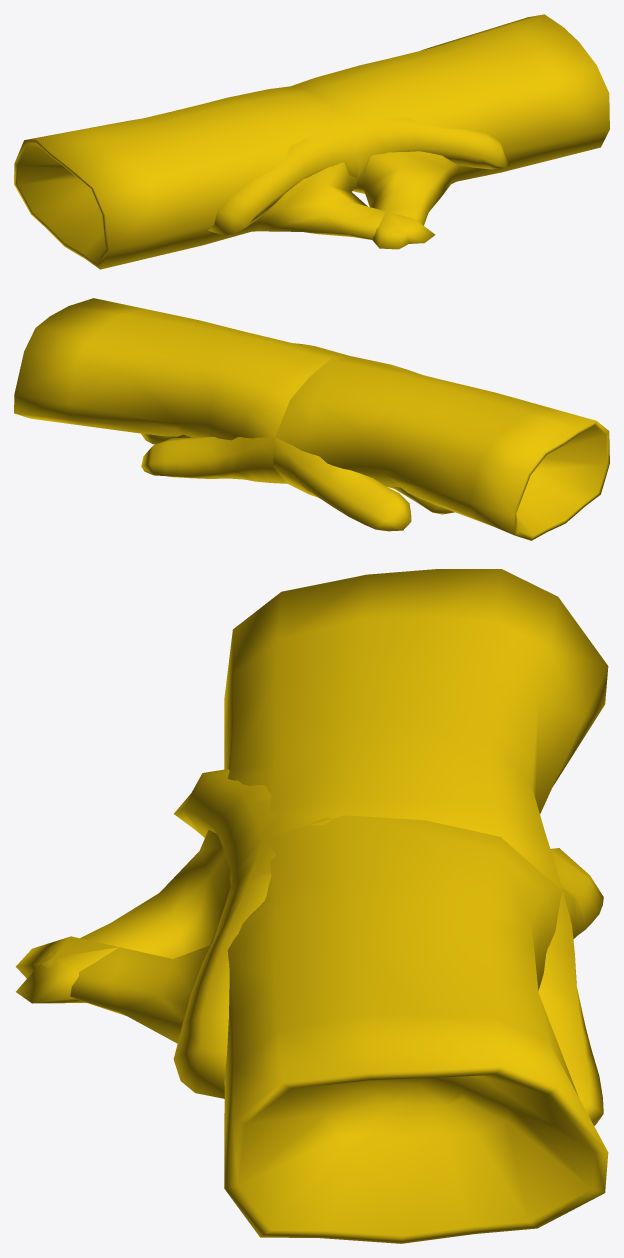
Rendered from Gloves_Metal.fbx.
The picture shows the model from 3 angles, top to bottom: view 1: azimuth 30°, elevation 25°; view 2: azimuth 150°, elevation 25°; view 3: azimuth 270°, elevation 25°; orthographic projection. The views are drawn at different scales.
Visible parts, largest first — view 1: GloveMet_Left, GloveMet_Right; view 2: GloveMet_Left, GloveMet_Right; view 3: GloveMet_Right, GloveMet_Left.
Part boxes in pixels (x1=…): GloveMet_Left: x1=14, y1=86, x2=509, y2=269; GloveMet_Right: x1=208, y1=14, x2=609, y2=249; GloveMet_Left: x1=141, y1=343, x2=609, y2=540; GloveMet_Right: x1=14, y1=298, x2=454, y2=531; GloveMet_Right: x1=15, y1=769, x2=608, y2=1243; GloveMet_Left: x1=16, y1=569, x2=608, y2=1125.
Size of the model in its own units: 0.3981 by 0.078 by 0.1991.
